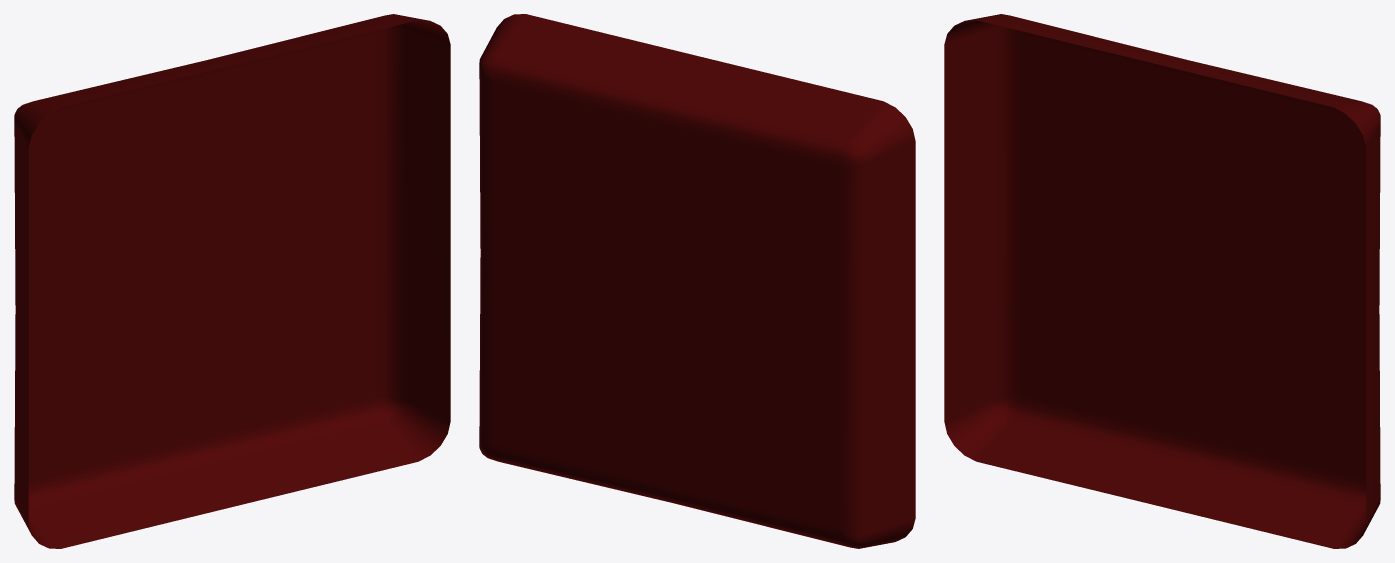
Rendered from MeshPan_1_0_GeomSubset_1.obj.
3 views of the same model, side by side, from view 1: azimuth 30°, elevation 25°; view 2: azimuth 150°, elevation 25°; view 3: azimuth 330°, elevation 25° (orthographic).
Visible parts, largest first — view 1: MeshPan_1_0_GeomSubset_1; view 2: MeshPan_1_0_GeomSubset_1; view 3: MeshPan_1_0_GeomSubset_1.
Part boxes in pixels (box(x1,y1,x2,y2)): MeshPan_1_0_GeomSubset_1: box(14, 14, 450, 548); MeshPan_1_0_GeomSubset_1: box(479, 14, 915, 548); MeshPan_1_0_GeomSubset_1: box(944, 14, 1380, 548).
Size of the model in its own units: 0.2839 by 0.2839 by 0.0443.
